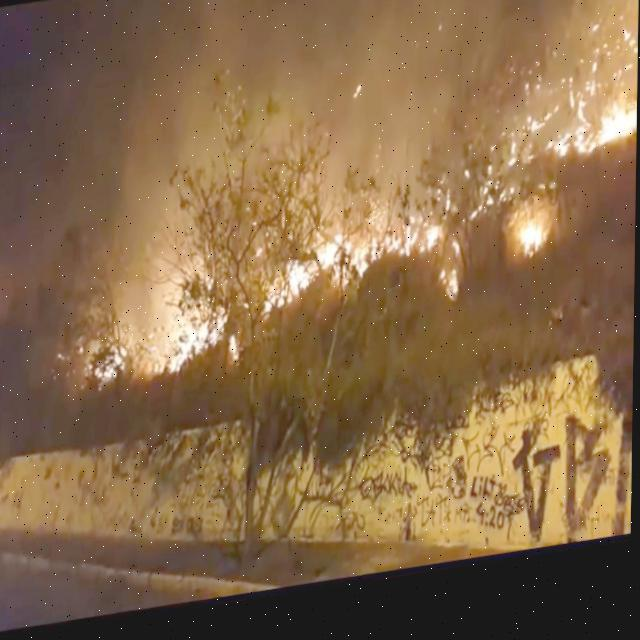Fire: (265, 230, 442, 318), (150, 276, 228, 379), (548, 129, 636, 177), (508, 218, 548, 278), (442, 252, 466, 317), (95, 349, 126, 387), (230, 341, 243, 368)
